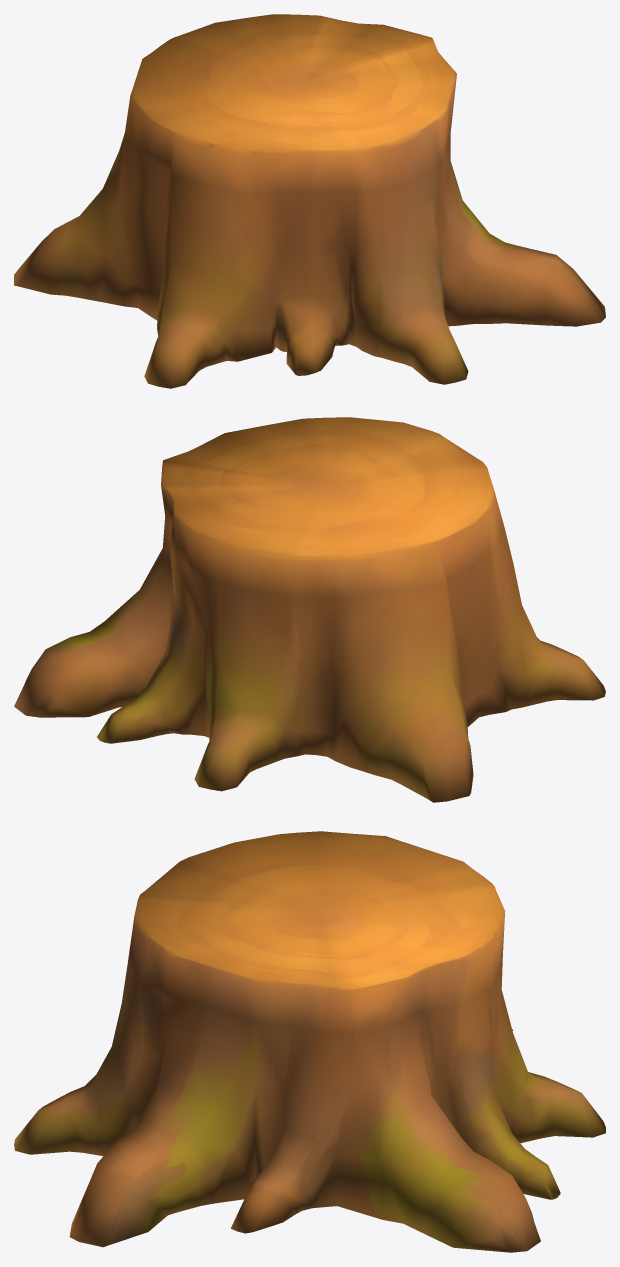
The model's file is stump.glb.
3 views of the same model, one above another, from view 1: azimuth 30°, elevation 25°; view 2: azimuth 150°, elevation 25°; view 3: azimuth 270°, elevation 25° (orthographic). The views are drawn at different scales.
Visible parts, largest first — view 1: tripo_node_5325ceb6-eaf3-437f-91f3-276d36a8c939; view 2: tripo_node_5325ceb6-eaf3-437f-91f3-276d36a8c939; view 3: tripo_node_5325ceb6-eaf3-437f-91f3-276d36a8c939.
Boxes of the visible parts, <box> form: tripo_node_5325ceb6-eaf3-437f-91f3-276d36a8c939: <box>14,14,605,388</box>; tripo_node_5325ceb6-eaf3-437f-91f3-276d36a8c939: <box>14,417,605,802</box>; tripo_node_5325ceb6-eaf3-437f-91f3-276d36a8c939: <box>14,831,605,1252</box>.
Bounding box in the file's own units: 0.9316 × 0.416 × 0.998.
Materials: 1 (1 with a texture image).
